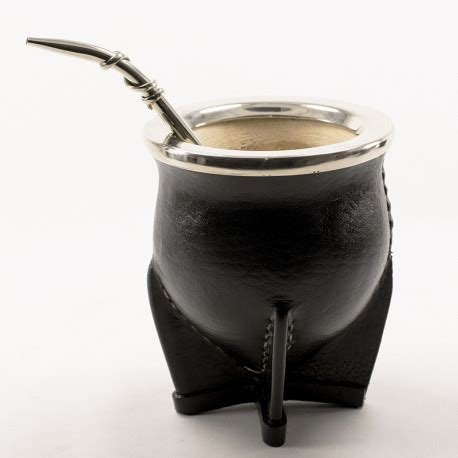cuero: (146, 156, 400, 450)
